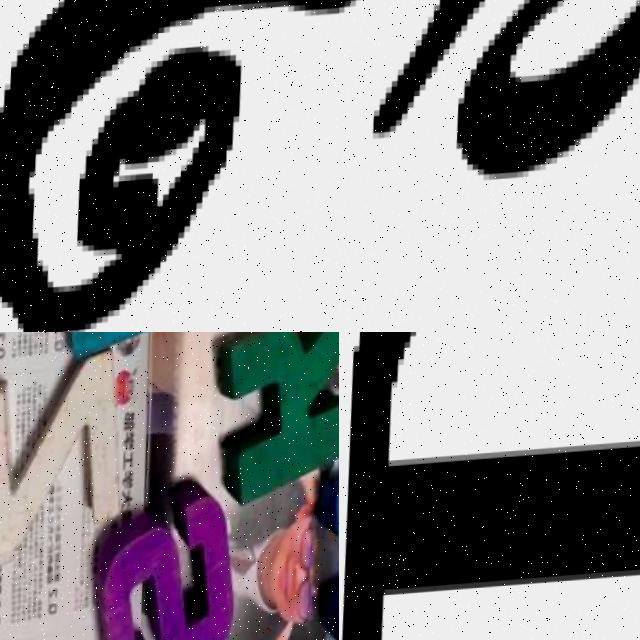3: (339, 0, 640, 332)
D: (339, 332, 640, 640)
K: (218, 332, 339, 491)
S: (98, 498, 249, 640)
Z: (0, 342, 139, 571)
